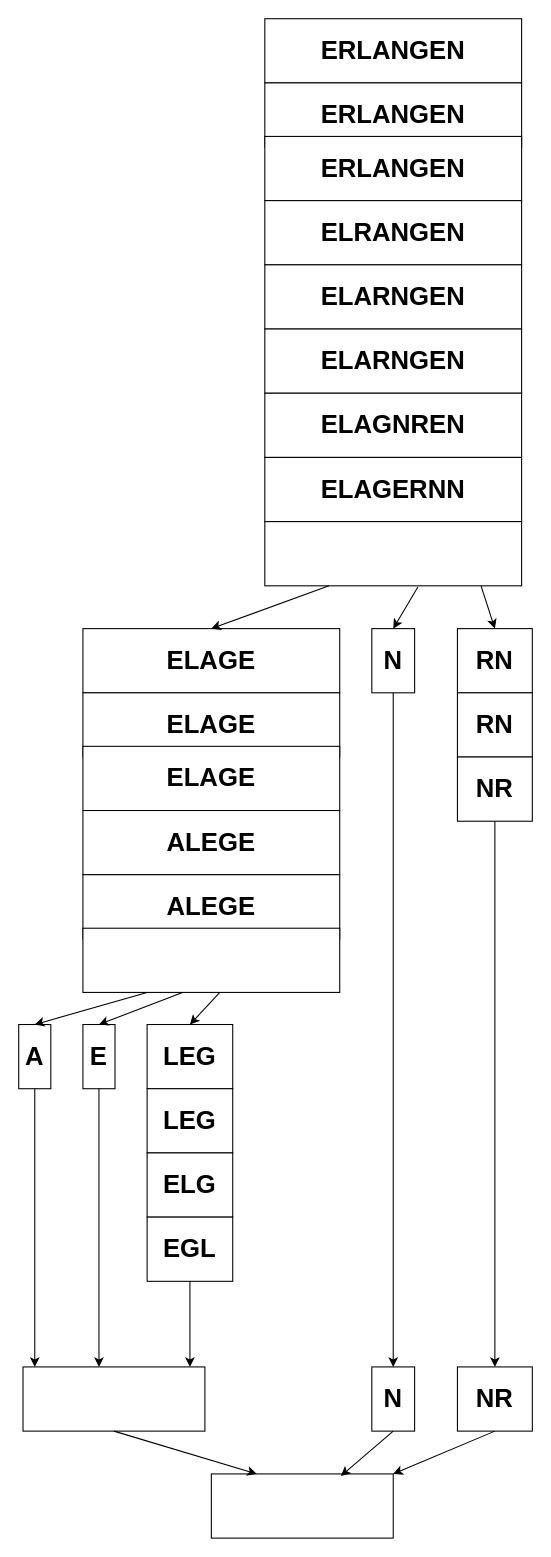
Image size: 551x1557. Some labels were removed from this diagram. The centre of each missing label's shape, as x and y in pixels:
"AEEGL" goes at point (113, 1398).
"AEEGLNNR" goes at point (301, 1505).
"AELEG" goes at point (211, 959).
"ELAGENRN" goes at point (393, 553).
